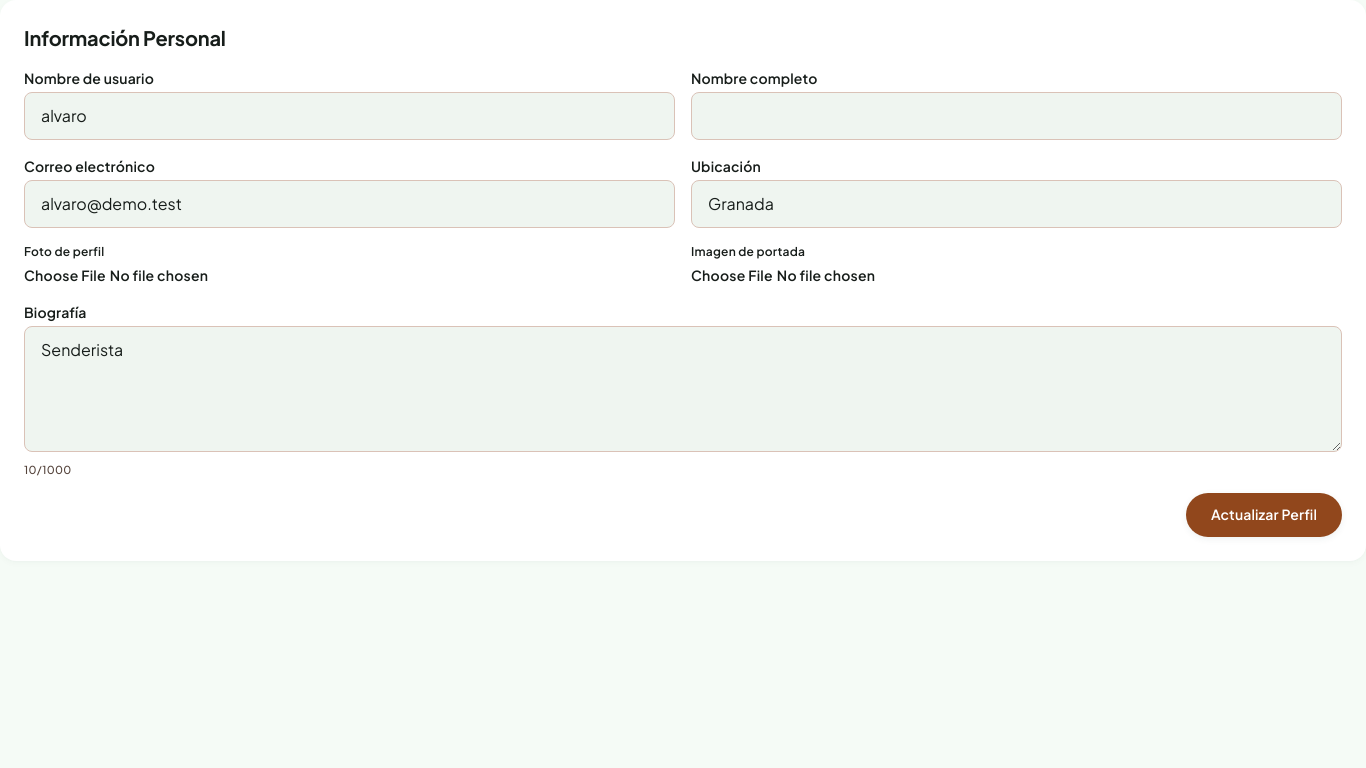
ProfileEditForm › requires a full name before saving
Click the button "Actualizar Perfil".
click(1264, 515)  # box x1=1186 y1=493 x2=1342 y2=537
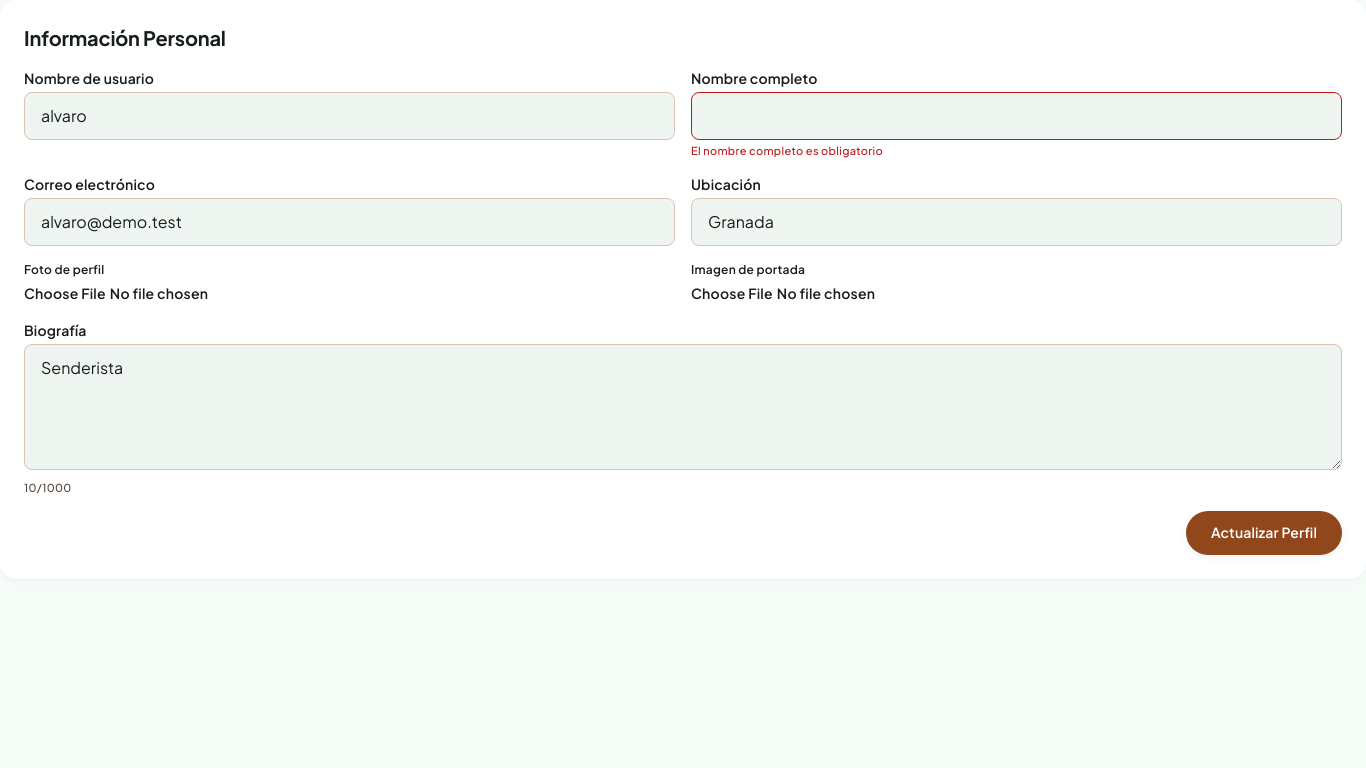
Now the text "El nombre completo es obligatorio" is shown, box x1=691 y1=144 x2=883 y2=157
